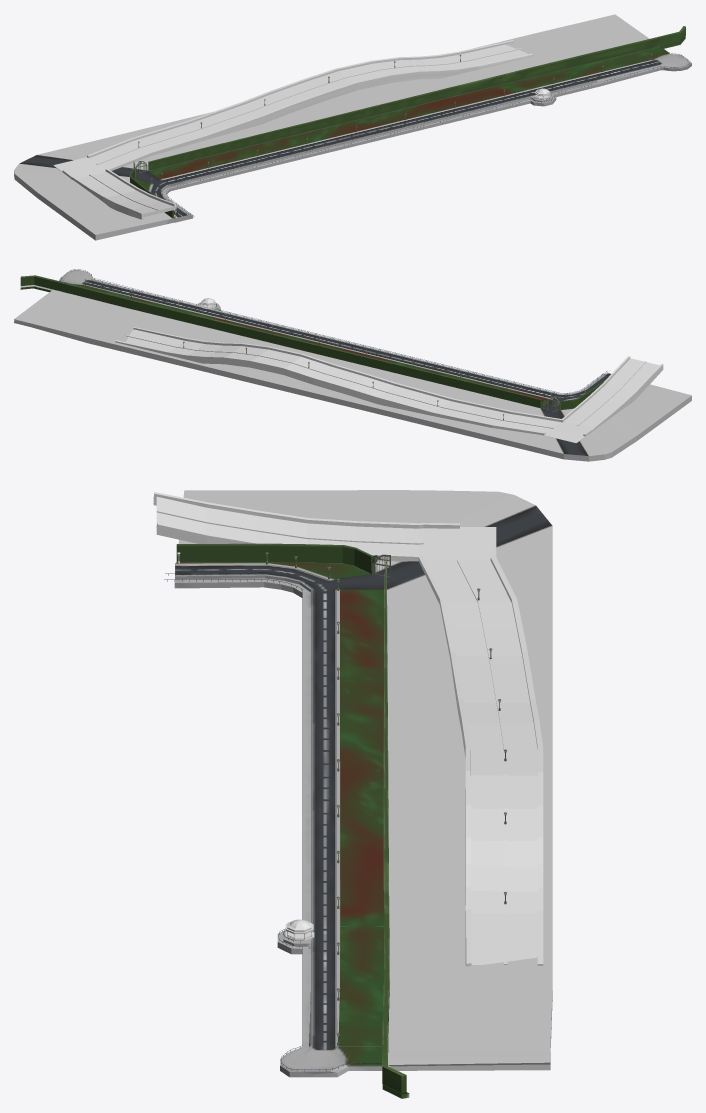
The model's file is Sankey.fbx.
The picture shows the model from 3 angles, top to bottom: view 1: azimuth 30°, elevation 25°; view 2: azimuth 150°, elevation 25°; view 3: azimuth 270°, elevation 25°; orthographic projection. The views are drawn at different scales.
Parts seen in each view (by area): view 1: Cube.002, Cube.005, Cube.007; view 2: Cube.002, Cube.005, Cube.007, LampPost.020; view 3: Cube.002, Cube.005, Cube.007, LampPost.020.
Part boxes in pixels (bbox=[...]): Cube.002: bbox=[14, 14, 691, 240]; Cube.005: bbox=[53, 40, 533, 219]; Cube.007: bbox=[161, 46, 689, 216]; Cube.002: bbox=[14, 270, 691, 461]; Cube.005: bbox=[115, 327, 663, 443]; Cube.007: bbox=[61, 269, 607, 394]; LampPost.020: bbox=[84, 279, 585, 419]; Cube.002: bbox=[174, 490, 552, 1098]; Cube.005: bbox=[153, 492, 543, 966]; Cube.007: bbox=[164, 572, 381, 1071]; LampPost.020: bbox=[265, 552, 506, 1045].
Size of the model in its own units: 39399 by 1453 by 11036.
